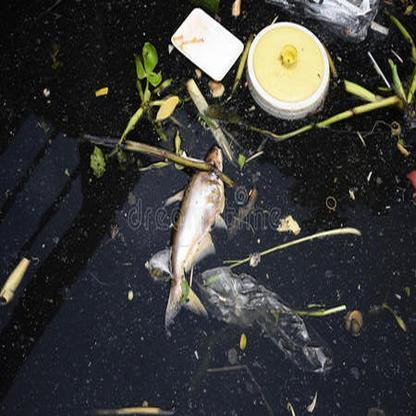deceased fish: (168, 144, 234, 323)
